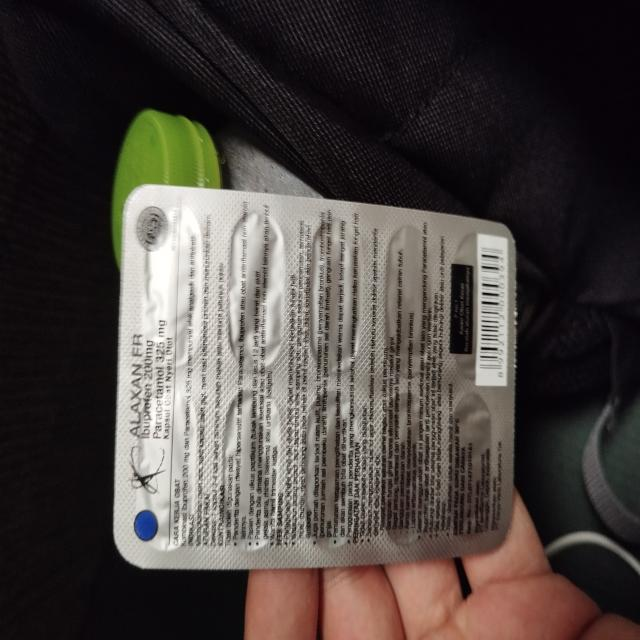B3: (113, 183, 515, 570)
